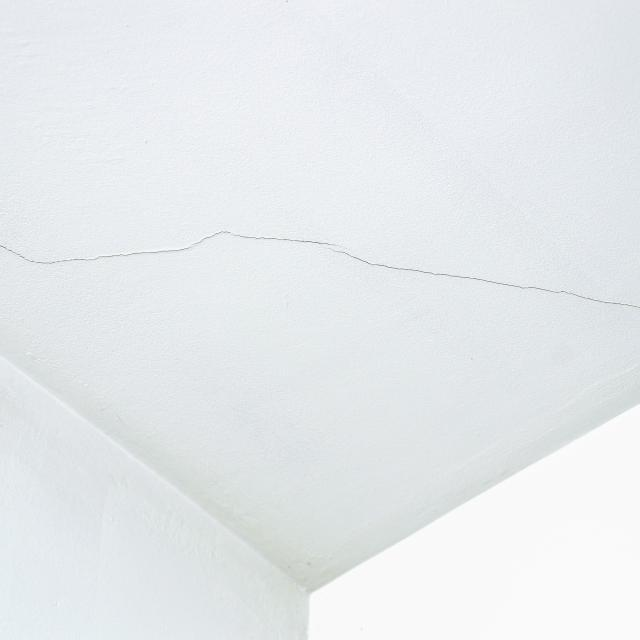leak: (330, 246, 640, 309), (30, 227, 224, 264), (225, 220, 339, 249), (2, 230, 31, 265)
